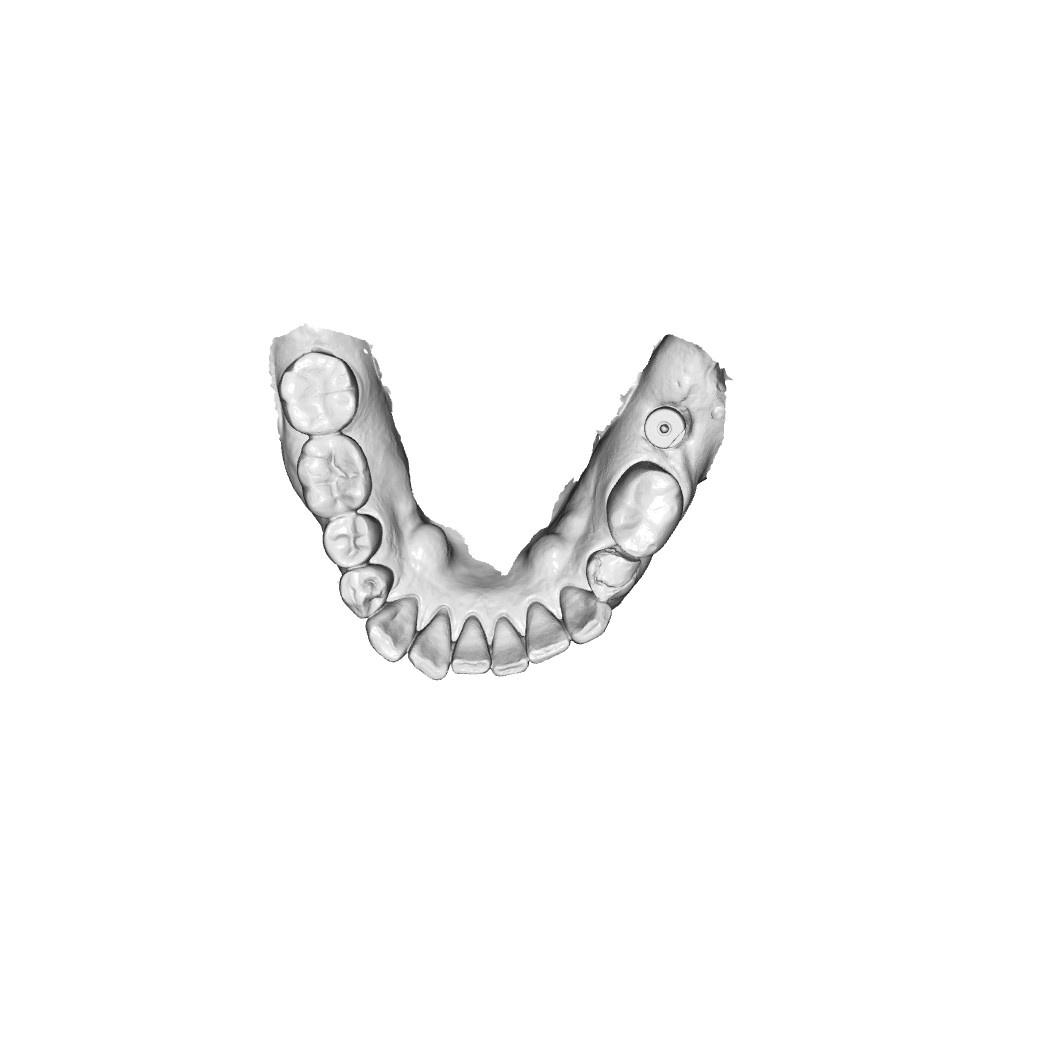canine: (365, 603, 414, 667), (559, 587, 612, 645)
implant: (641, 404, 692, 450)
incisor: (405, 611, 450, 684), (527, 607, 569, 665), (489, 619, 529, 678), (449, 619, 488, 678)
molar: (606, 458, 686, 560), (275, 352, 361, 432), (298, 433, 374, 515)
premolar: (323, 514, 383, 564), (587, 548, 641, 602), (337, 567, 389, 619)
